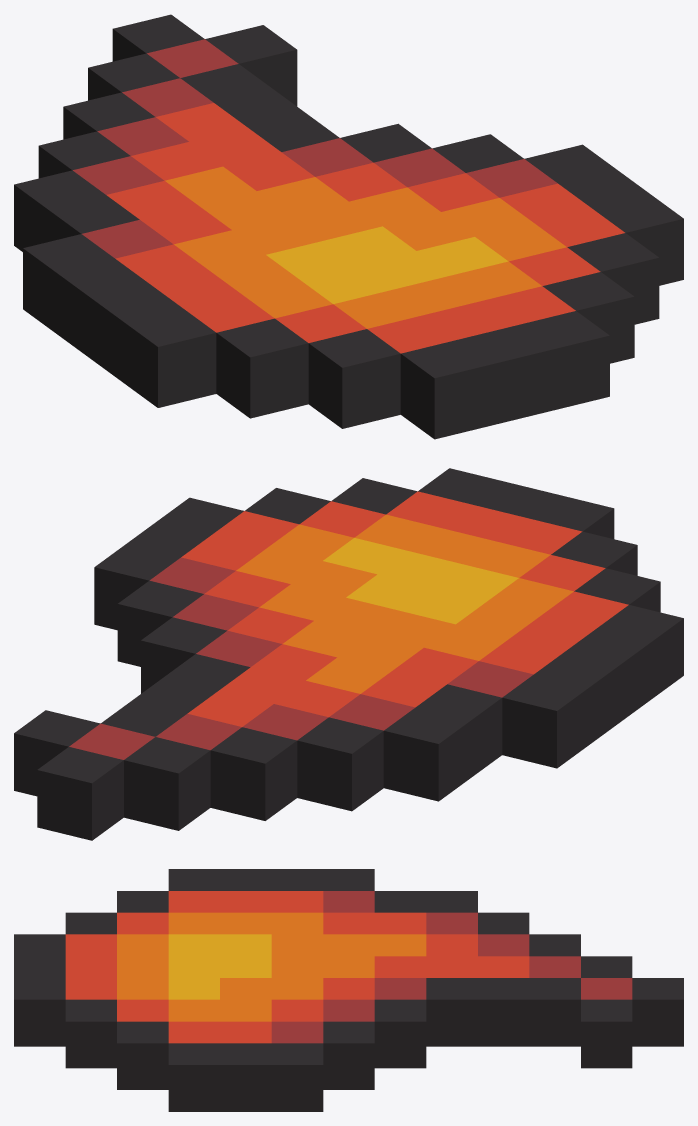
The model's file is Fire.obj.
3 renders of one model, top to bottom at view 1: azimuth 30°, elevation 25°; view 2: azimuth 150°, elevation 25°; view 3: azimuth 270°, elevation 25°, orthographic. The views are drawn at different scales.
Size of the model in its own units: 0.9 by 0.1 by 1.3.
1 material, 1 textured.
